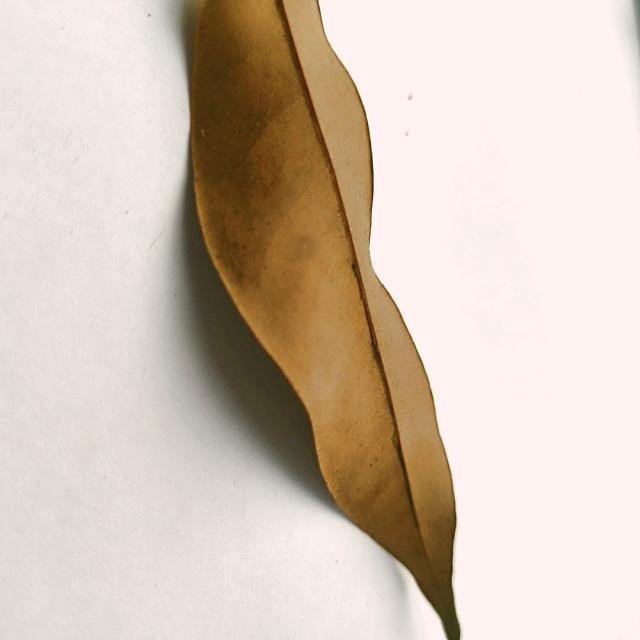Dry_Leaf-Lychee: (182, 0, 463, 639)
